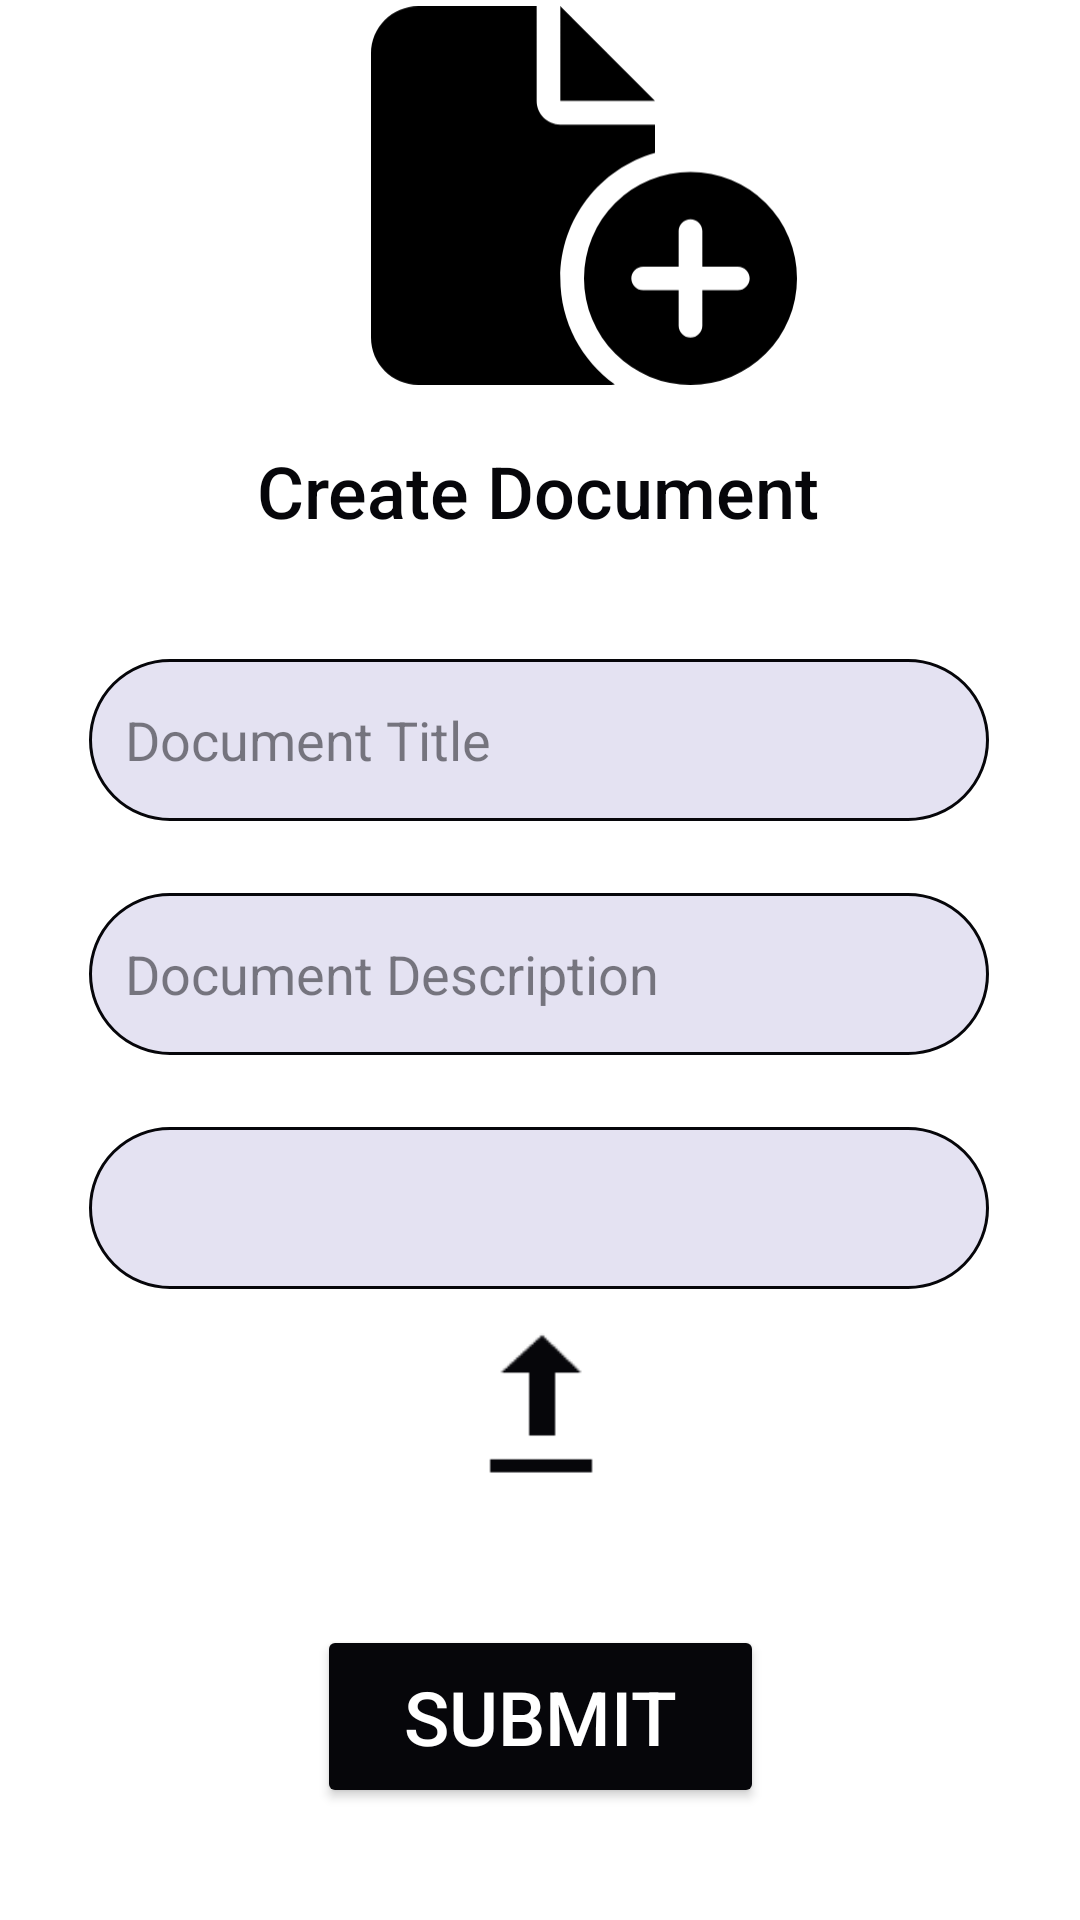

Locate icon controls on the screen. Image size 1080*1920, boxes as {"left": x1, "top": y1, "right": x2, "bottom": y2}.
upload: {"left": 489, "top": 1335, "right": 593, "bottom": 1473}
